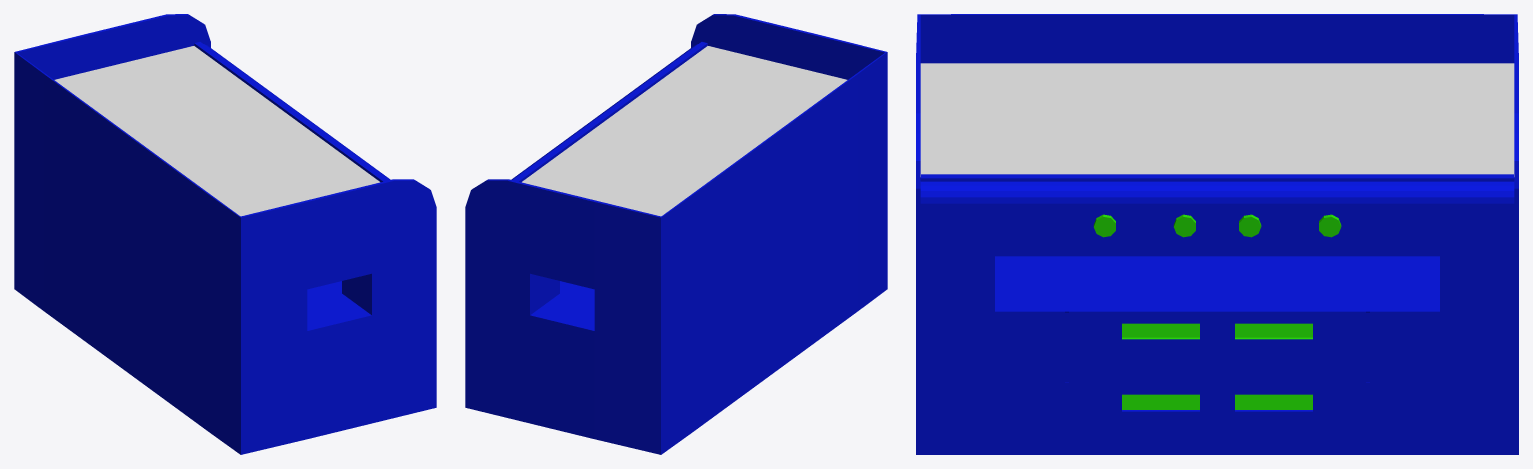
Rendered from Griddy.fbx.
3 renders of one model, left to right at view 1: azimuth 30°, elevation 25°; view 2: azimuth 150°, elevation 25°; view 3: azimuth 270°, elevation 25°, orthographic. The views are drawn at different scales.
Parts seen in each view (by area): view 1: Cube; view 2: Cube; view 3: Cube.
Boxes of the visible parts, <box> form: Cube: <box>14,14,436,454</box>; Cube: <box>465,14,887,454</box>; Cube: <box>916,14,1518,454</box>.
Size of the model in its own units: 118 by 134 by 233.
